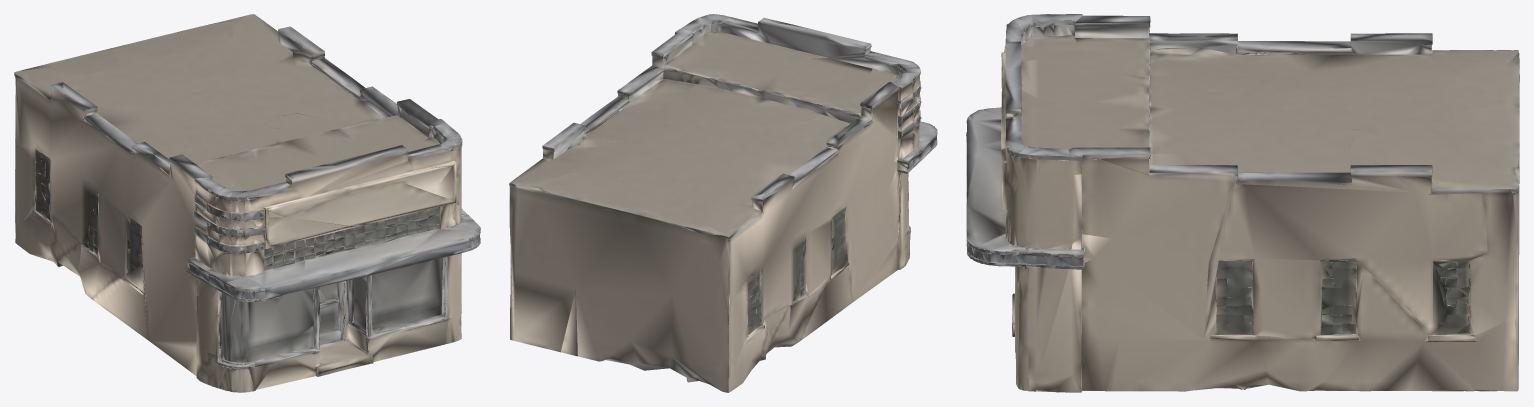
File: storefront_sl.glb
3 views of the same model, side by side, from view 1: azimuth 30°, elevation 25°; view 2: azimuth 150°, elevation 25°; view 3: azimuth 270°, elevation 25° (orthographic). The views are drawn at different scales.
Visible parts, largest first — view 1: LO.001; view 2: LO.001; view 3: LO.001.
Part boxes in pixels (x1=…): LO.001: x1=14, y1=14, x2=480, y2=392; LO.001: x1=509, y1=14, x2=937, y2=392; LO.001: x1=966, y1=14, x2=1519, y2=392.
Bounding box in the file's own units: 7.77 × 5.91 × 12.01.
1 material, 1 textured.
